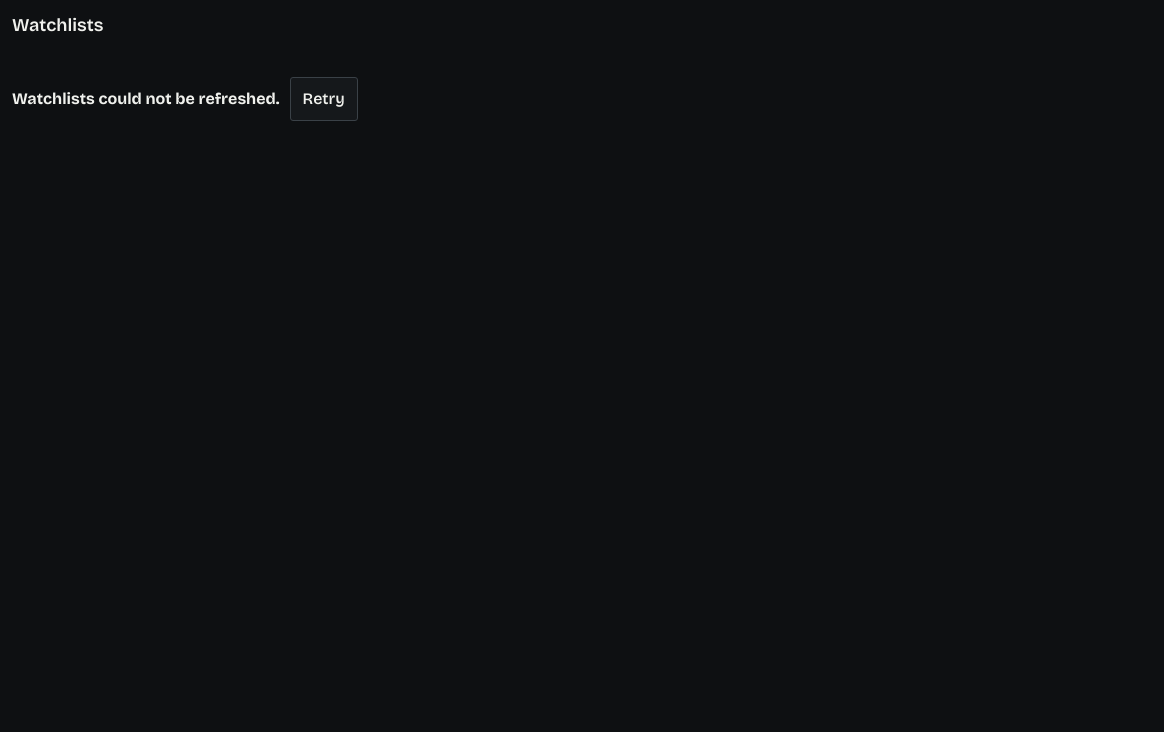
Scenario: Watchlists › never calls a rejected change saved, and a failed read is not an empty current list
Check: the message shows "Watchlists could not be refreshed.", box [12,89,280,108]
Click the button "Retry" at x=324, y=99, box [290,77,358,121]
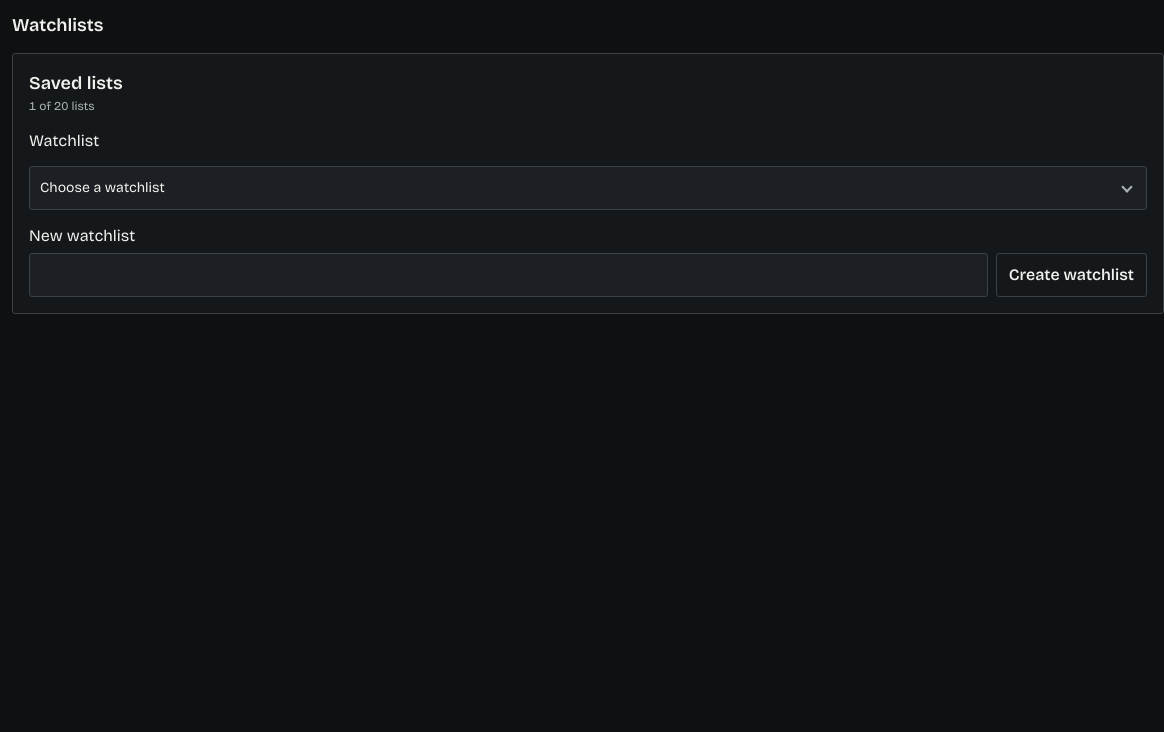
Select "Stale Book" in the dropdown labelled "Watchlist" at x=588, y=188, box [29,166,1147,210]
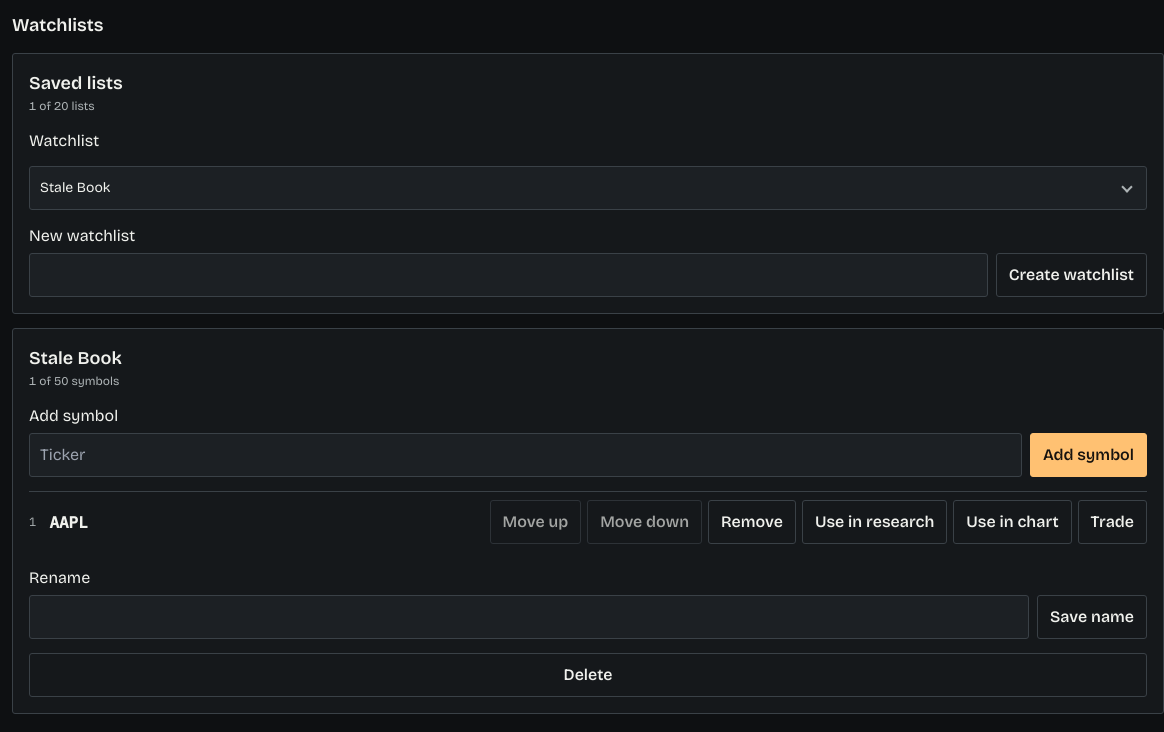
Check: the text "AAPL" is shown, box [49,512,88,532]
Type "Renamed" into the field labelled "Rename" at x=529, y=617, box [29,595,1029,639]
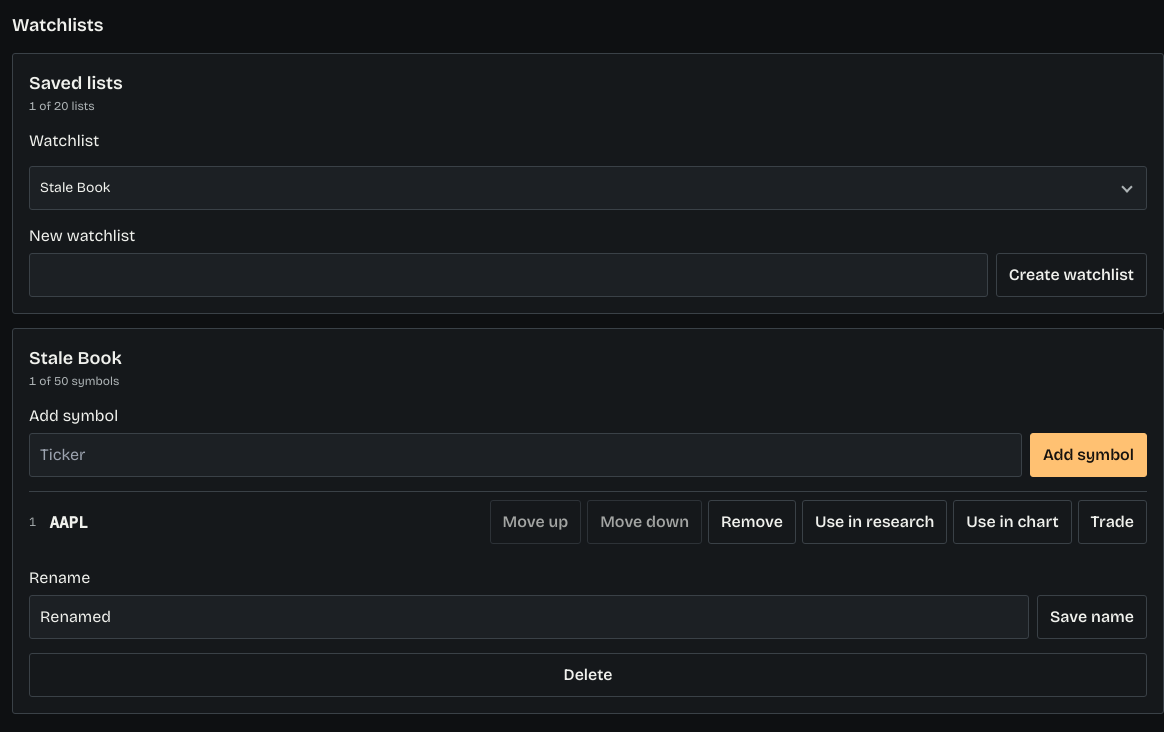
Click the button "Save name" at x=1092, y=617, box [1037,595,1147,639]
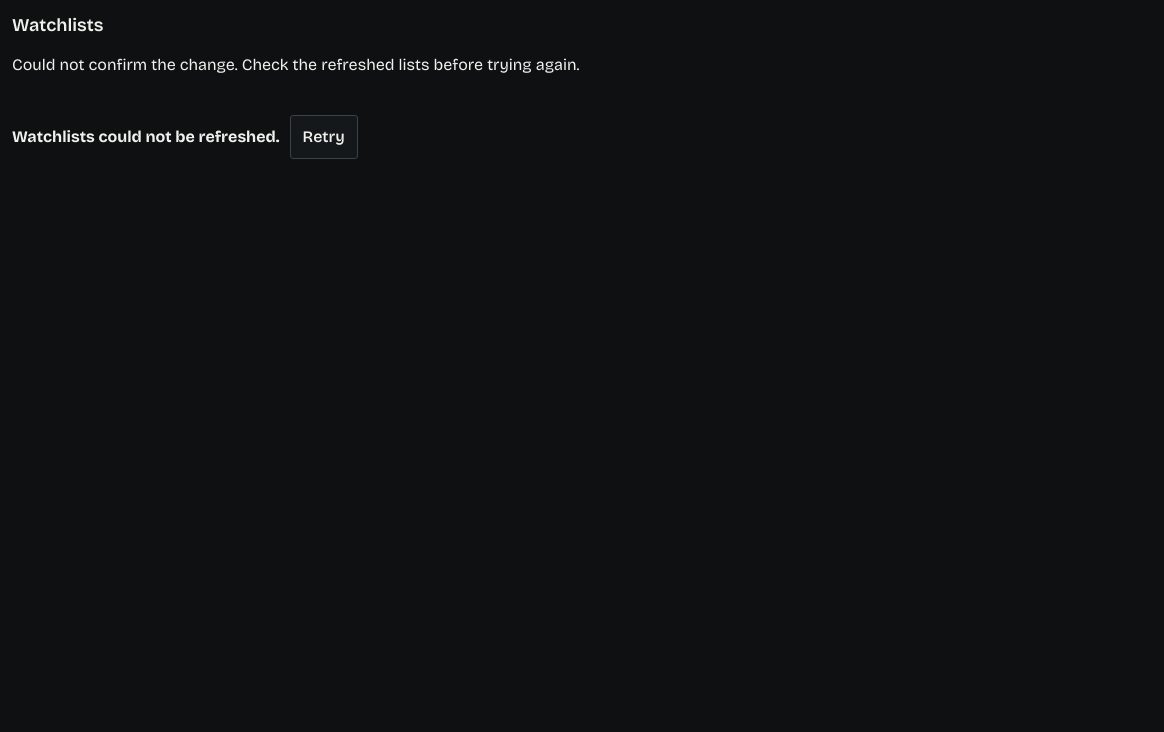
Check: the text "Could not confirm the change. Check the refreshed lists before trying again." is shown, box [12,55,579,74]
Check: the text "Watchlists could not be refreshed." is shown, box [12,127,280,146]
Check: the heading "Stale Book" is gone
